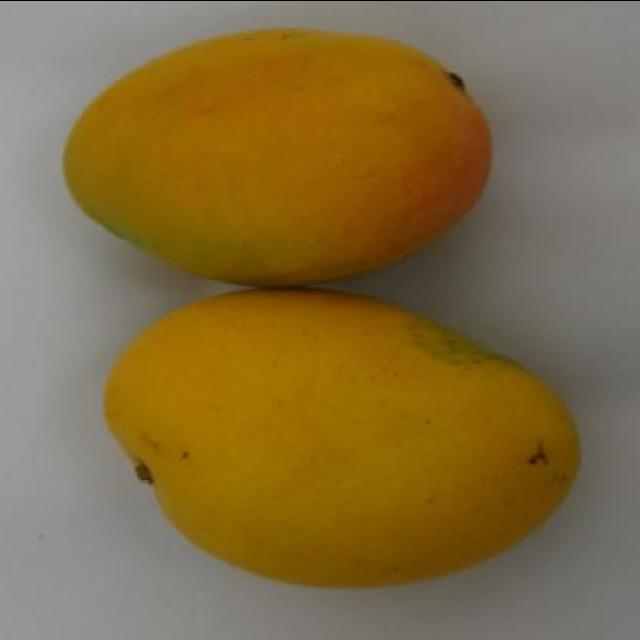Mango: (97, 288, 577, 590), (67, 28, 491, 286)
